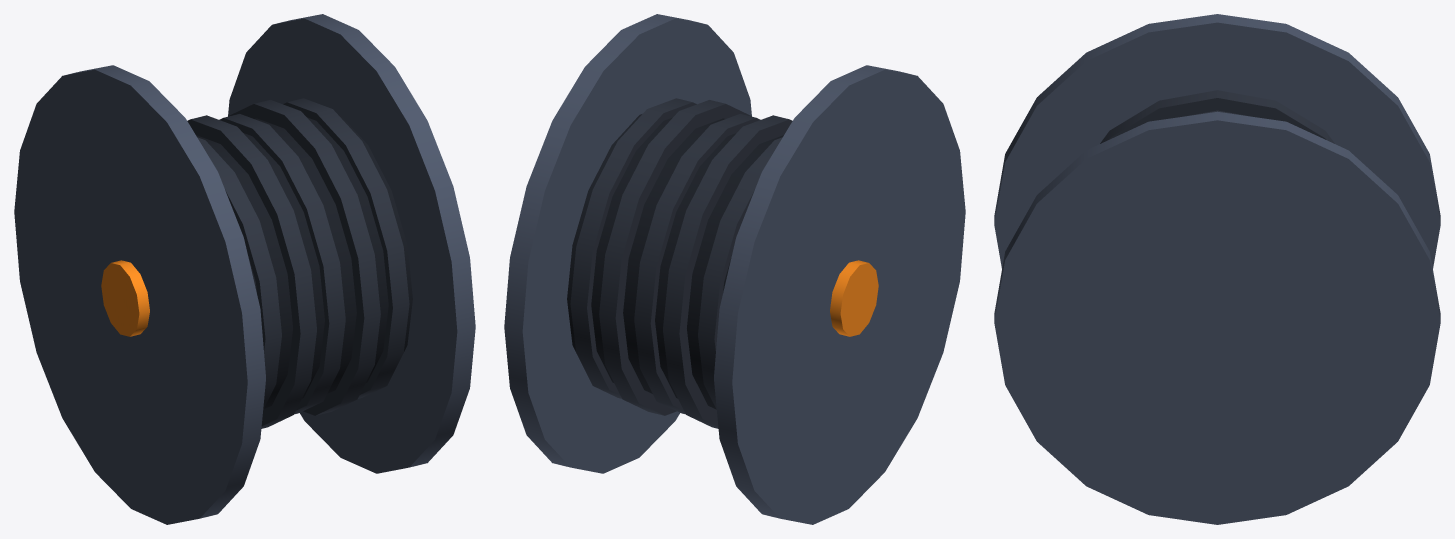
Rendered from cable_drum.glb.
The picture shows the model from 3 angles, left to right: view 1: azimuth 30°, elevation 25°; view 2: azimuth 150°, elevation 25°; view 3: azimuth 270°, elevation 25°; orthographic projection. The views are drawn at different scales.
Parts seen in each view (by area): view 1: cable_drum; view 2: cable_drum; view 3: cable_drum.
Part boxes in pixels (x1,y1,x2,y2): cable_drum: (14, 14, 475, 524); cable_drum: (504, 14, 965, 524); cable_drum: (994, 14, 1440, 524).
Bounding box in the file's own units: 0.649 × 1.1 × 1.1.
